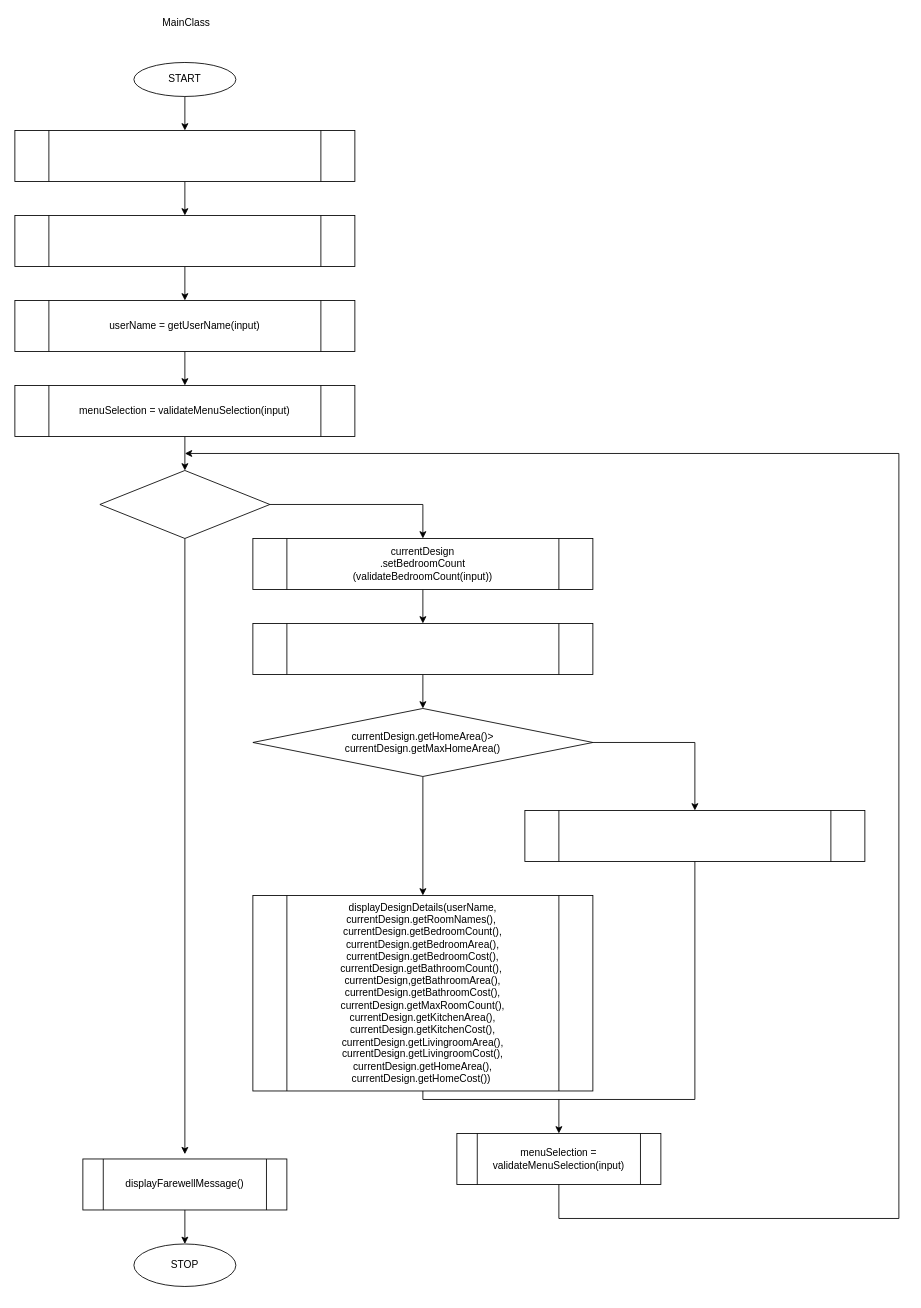
This 921x1308 diagram has some shape labels left out. Here are the shapes that lost their labels. From the top down, the centre of each, then its label:
At pixel 184 155: "SingleStoryHome currentDesign = new SingleStoryHome()".
At pixel 184 240: "displayWelcomeMessage()".
At pixel 184 504: "menuSelection != 'Q'".
At pixel 422 648: "currentDesign .setBathroomCount (validateBathroomCount(input))".
At pixel 694 835: "displayOverMaxArea (currentDesign.getHomeArea(), currentDesign.getMaxHomeArea())".
